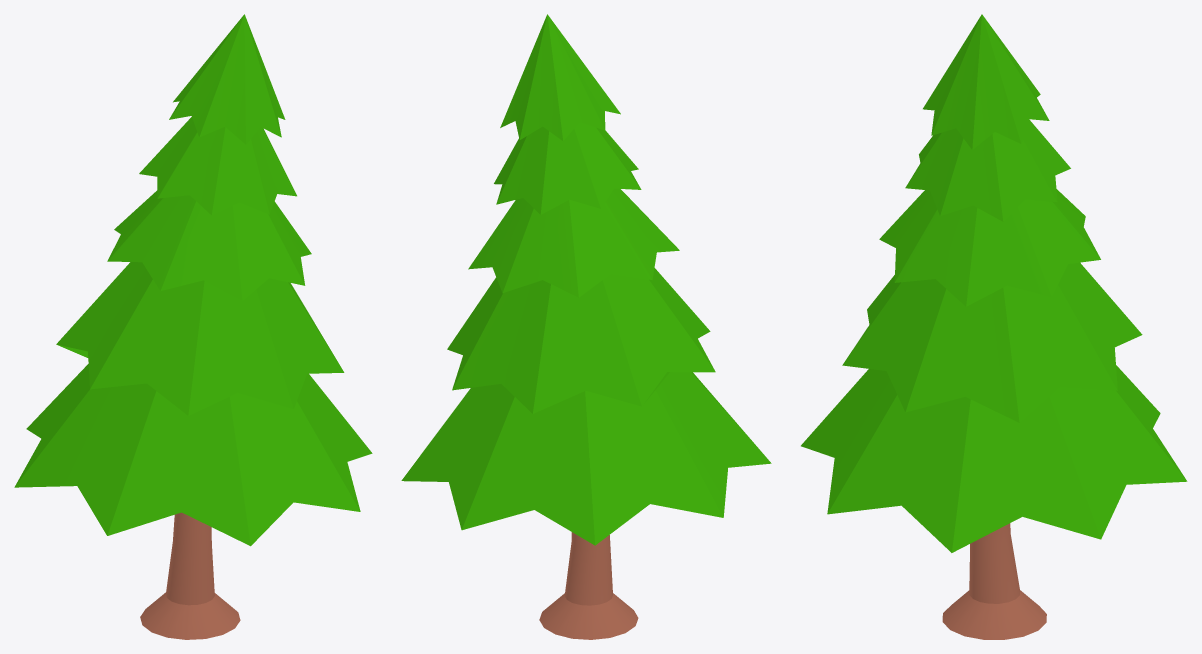
File: object_178_lev1.glb
3 views of the same model, side by side, from view 1: azimuth 30°, elevation 25°; view 2: azimuth 150°, elevation 25°; view 3: azimuth 270°, elevation 25° (orthographic). The views are drawn at different scales.
Parts seen in each view (by area): view 1: object_178_lev1; view 2: object_178_lev1; view 3: object_178_lev1.
Part boxes in pixels (box(x1,y1,x2,y2)): object_178_lev1: box(14, 14, 372, 639); object_178_lev1: box(401, 14, 771, 639); object_178_lev1: box(801, 14, 1187, 639).
Bounding box in the file's own units: 0.7077 × 1.27 × 0.7084.
Materials: 1 (1 with a texture image).
